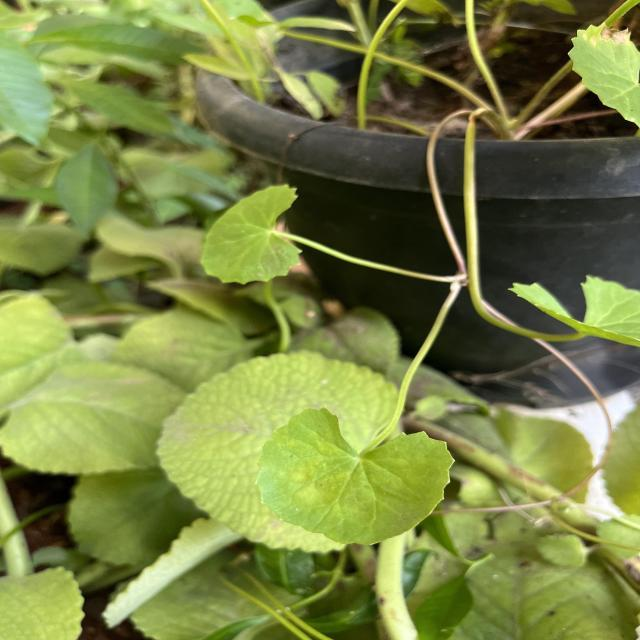Centella asiatica: (249, 404, 458, 548)
